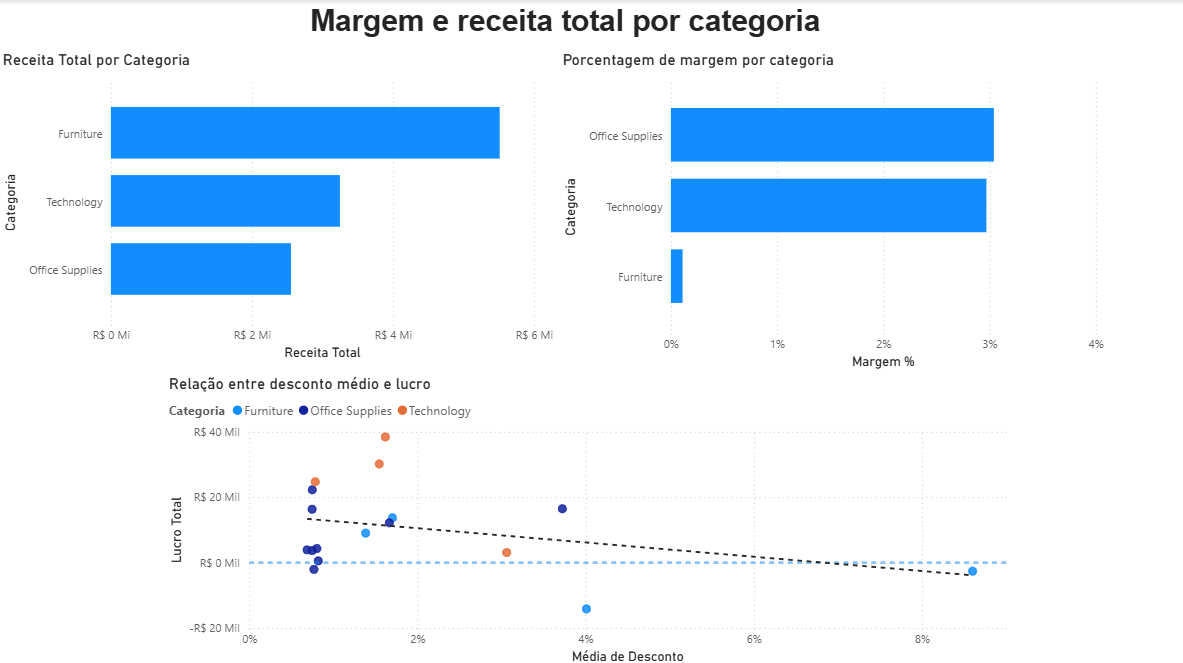

Layout of this report page (visuals, bound fields, positions):
{"tool":"powerbi","page":{"name":"Por categoria","canvas":[1280,720],"ordinal":1},"visuals":[{"type":"clusteredBarChart","title":"Receita Total por Categoria","fields":{"Category":["Sample - Superstore.Category"],"Y":["Sample - Superstore.Receita Total"]},"box":[0,53.2,603.4,339.1],"z":0},{"type":"clusteredBarChart","title":"Porcentagem de margem por categoria","fields":{"Category":["Sample - Superstore.Category"],"Y":["Sample - Superstore.Margem %"]},"box":[603.4,53.2,593.5,349.1],"z":1000},{"type":"scatterChart","title":"Relação entre desconto médio e lucro","fields":{"X":["Avg(Sample - Superstore.Discount)"],"Y":["Sample - Superstore.Lucro Total"],"Series":["Sample - Superstore.Category"],"Category":["Sample - Superstore.Sub-Category"]},"box":[179.5,402.3,920.9,317.5],"z":2000},{"type":"textbox","box":[330.8,0,570.2,53.2],"z":4000}]}

Visuals, with their boxes in screenshot pixels (x1, y1, x2, y2), scaled from the page's 1280x720 canvas onto the 1183x663 screenshot:
"Receita Total por Categoria" clusteredBarChart: select_region(0, 49, 558, 361)
"Porcentagem de margem por categoria" clusteredBarChart: select_region(558, 49, 1106, 370)
"Relação entre desconto médio e lucro" scatterChart: select_region(166, 370, 1017, 662)
textbox: select_region(306, 0, 833, 49)
